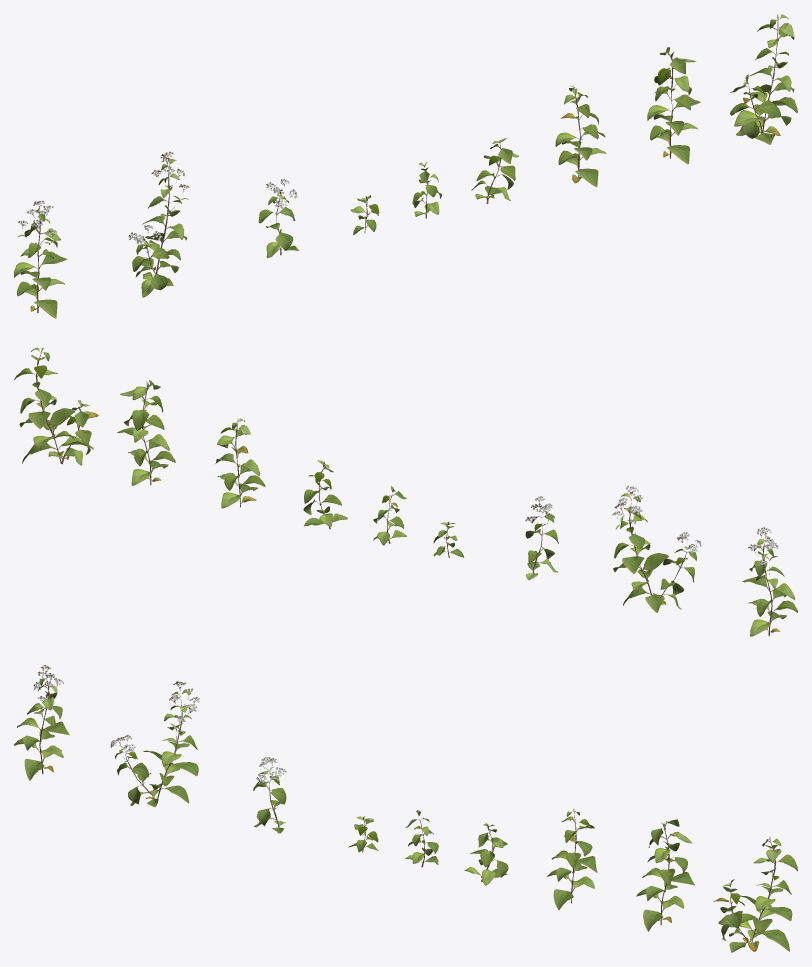
Rendered from shrub_01.glb.
The picture shows the model from 3 angles, top to bottom: view 1: azimuth 30°, elevation 25°; view 2: azimuth 150°, elevation 25°; view 3: azimuth 330°, elevation 25°; orthographic projection. The views are drawn at different scales.
Visible parts, largest first — view 1: shrub_01_a; view 2: shrub_01_a; view 3: shrub_01_a.
Boxes of the visible parts, x1,y1,x2,y2 form: shrub_01_a: (14, 14, 797, 318); shrub_01_a: (14, 347, 797, 636); shrub_01_a: (14, 665, 797, 952).
Bounding box in the file's own units: 2.59 × 0.3956 × 0.2181.
Materials: 1 (1 with a texture image).
